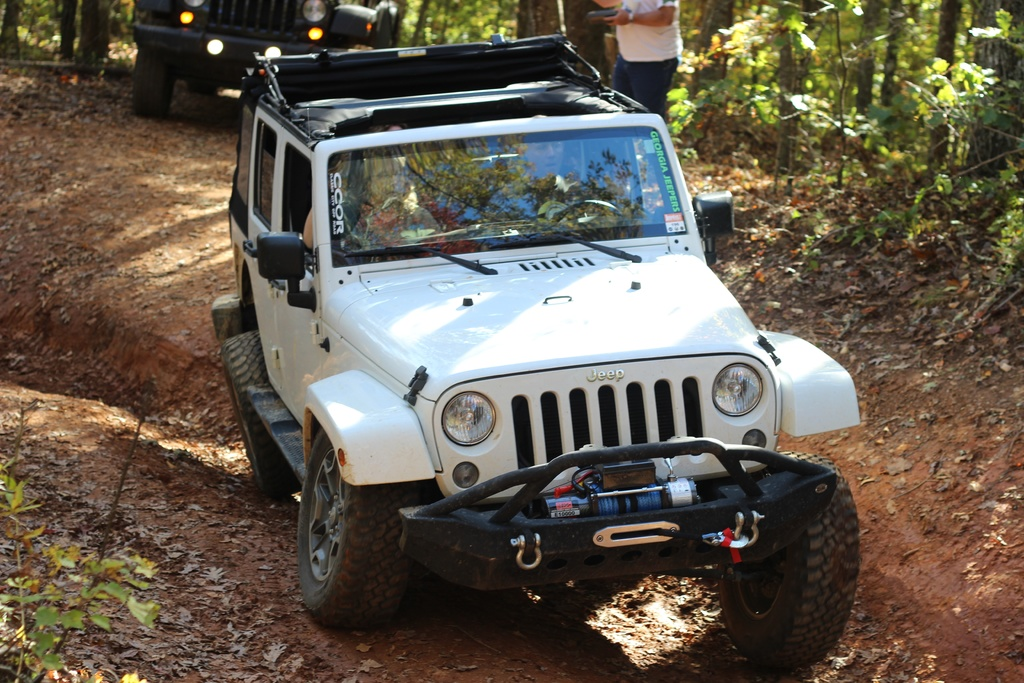Tree: (0, 0, 1023, 181)
